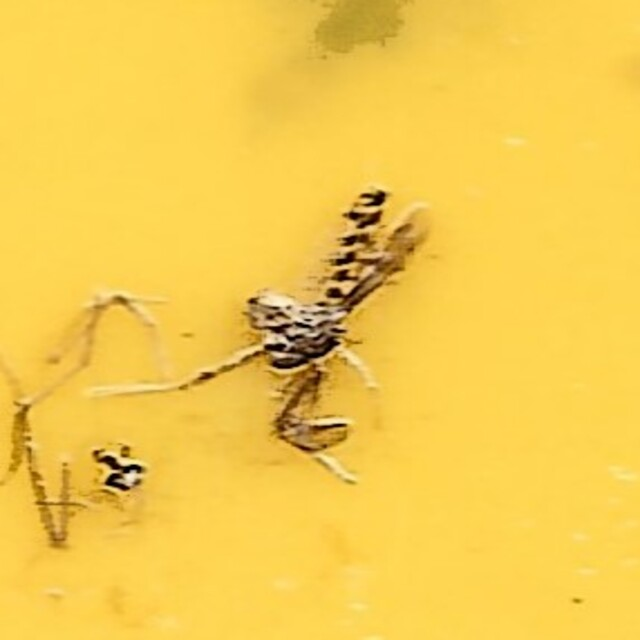Nematocera: (224, 177, 416, 463)
